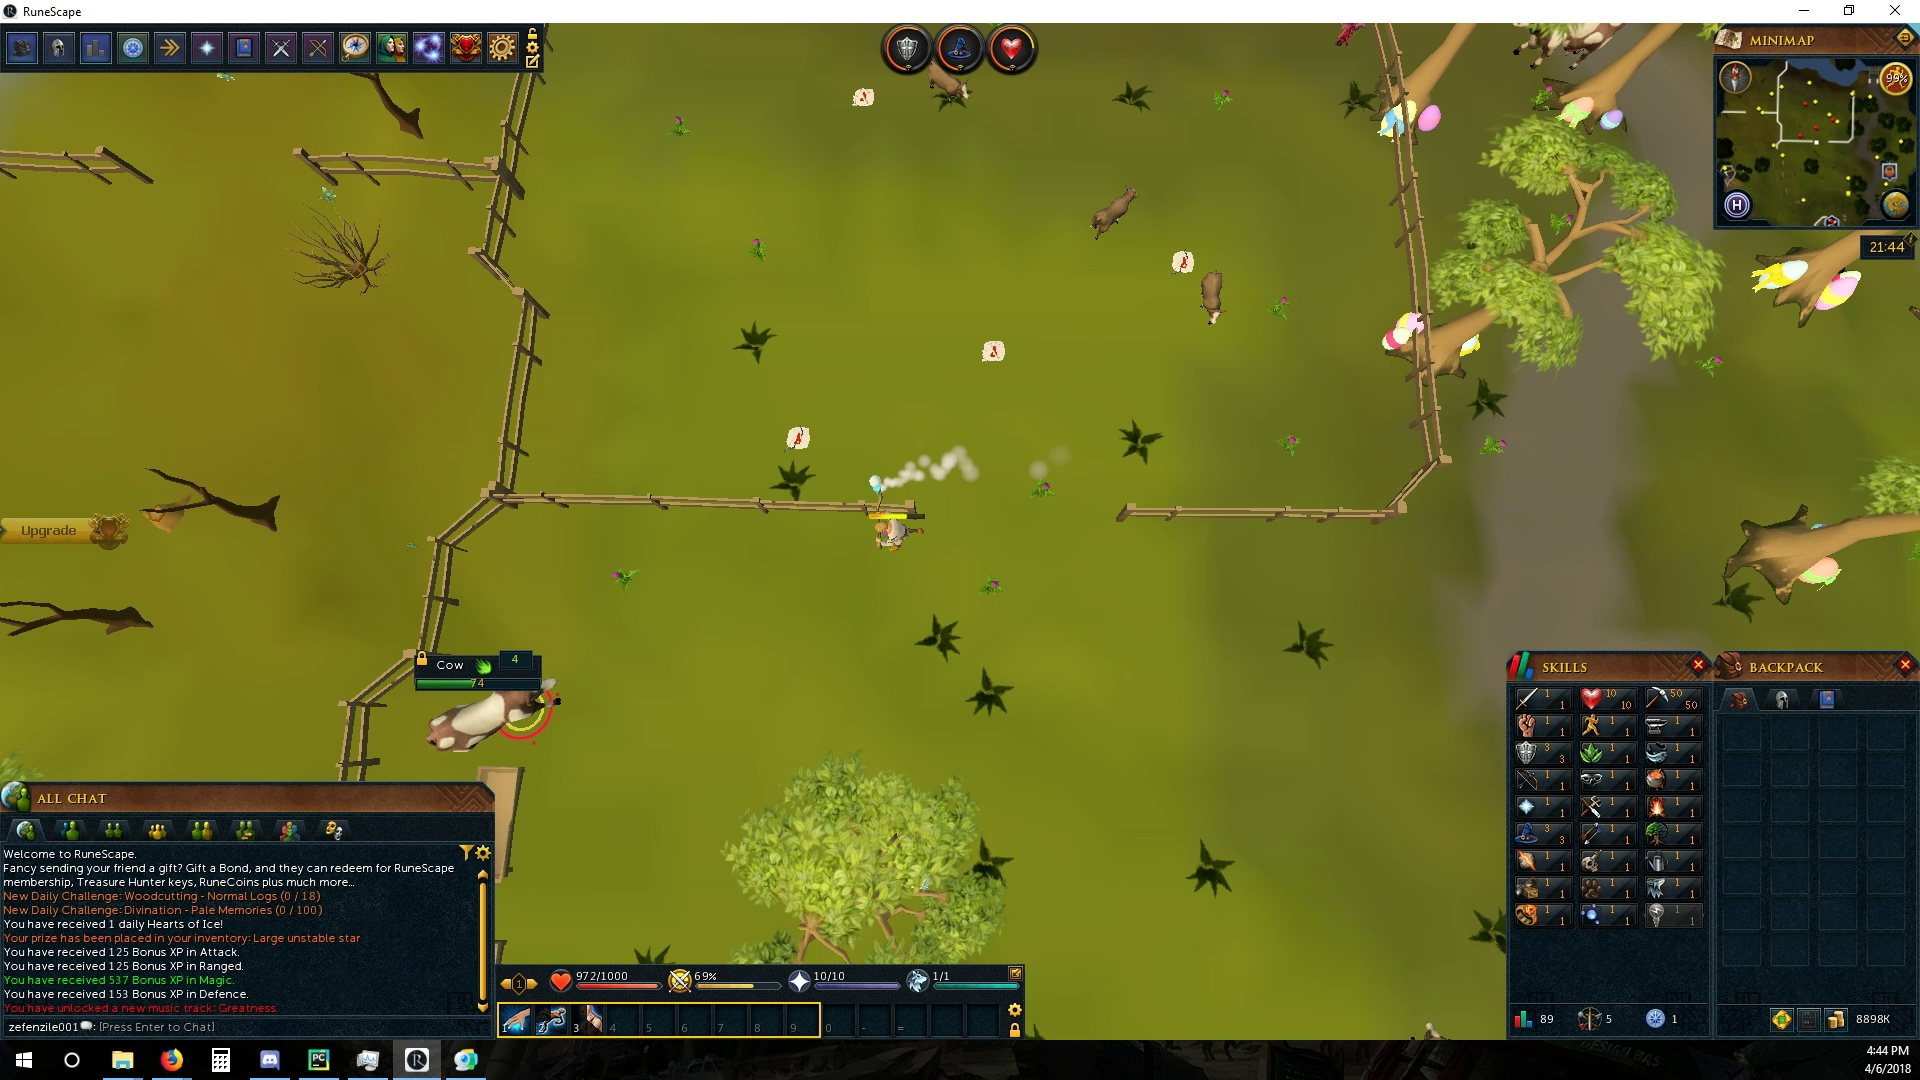calf: (1087, 179, 1142, 239), (924, 61, 975, 109), (1193, 269, 1228, 328)
cow: (425, 678, 563, 761), (1502, 21, 1626, 74)
cow_drop: (978, 336, 1010, 364), (1170, 249, 1197, 280), (786, 425, 812, 454), (851, 86, 876, 111)
